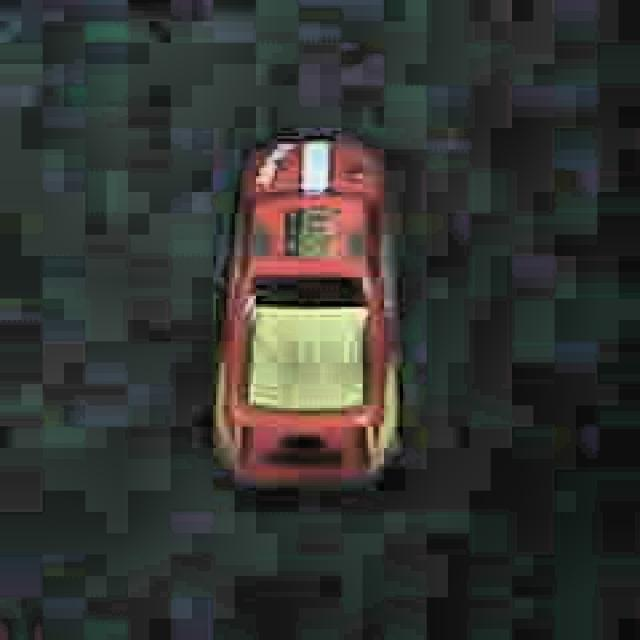car: (209, 129, 409, 492)
